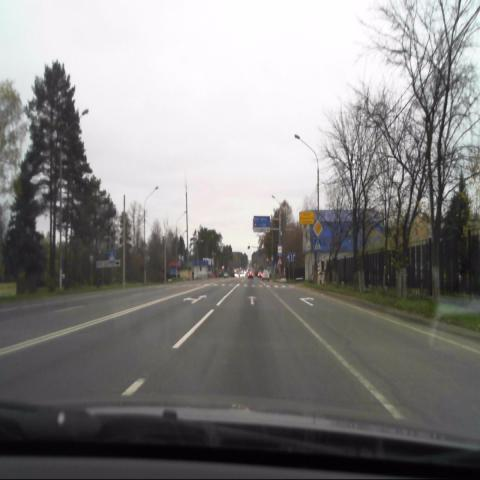2_1: (313, 220, 322, 237)
5_19_1: (314, 238, 321, 251)
